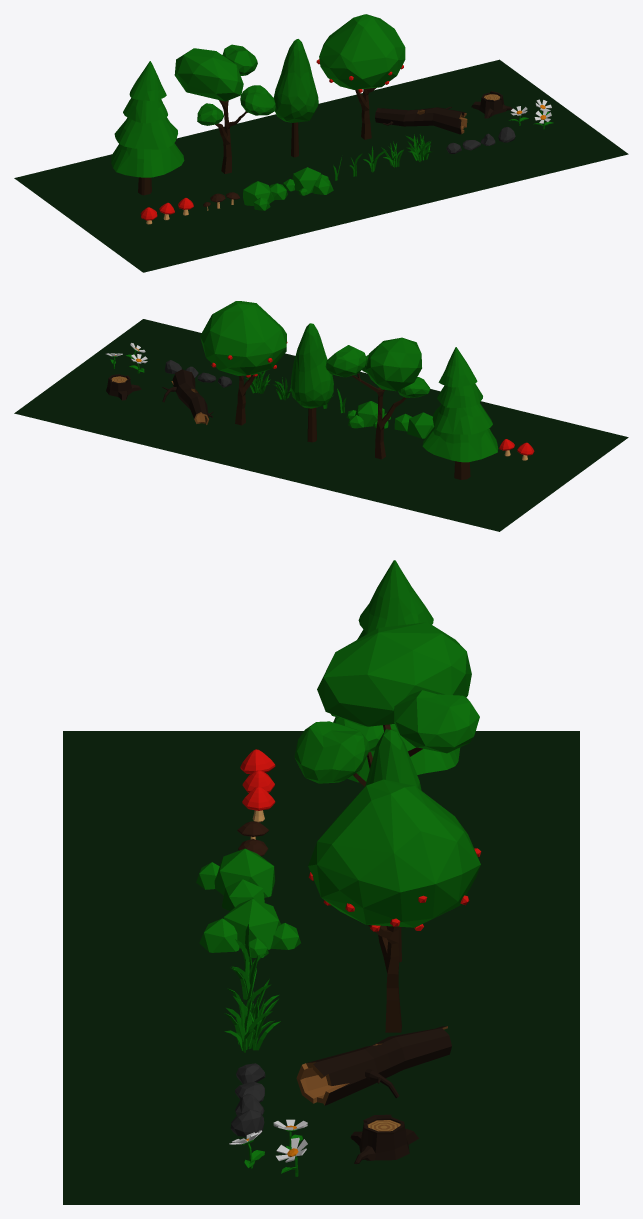
File: nature_assets.obj
3 views of the same model, one above another, from view 1: azimuth 30°, elevation 25°; view 2: azimuth 150°, elevation 25°; view 3: azimuth 270°, elevation 25° (orthographic). The views are drawn at different scales.
Visible parts, largest first — view 1: Plane.001, Icosphere.006, Icosphere.003, Pine_Tree, Icosphere.005, Cylinder, Icosphere.012, Icosphere.011, Circle.006, Cube.006; view 2: Plane.001, Icosphere.006, Pine_Tree, Icosphere.003, Icosphere.005, Cylinder, Icosphere.011, Icosphere.012, Circle.006; view 3: Plane.001, Icosphere.006, Icosphere.003, Cylinder, Pine_Tree, Icosphere.012, Icosphere.011, Circle.006, Icosphere.005, Cube.006.
Part boxes in pixels (<box>): Plane.001: <box>14,59,628,272</box>; Icosphere.006: <box>316,14,405,139</box>; Icosphere.003: <box>174,44,275,173</box>; Pine_Tree: <box>111,61,184,195</box>; Icosphere.005: <box>273,39,318,157</box>; Cylinder: <box>375,107,467,134</box>; Icosphere.012: <box>283,167,333,195</box>; Icosphere.011: <box>243,181,287,210</box>; Circle.006: <box>471,91,512,118</box>; Cube.006: <box>405,134,432,162</box>; Plane.001: <box>14,319,628,531</box>; Icosphere.006: <box>200,301,287,425</box>; Pine_Tree: <box>422,347,498,479</box>; Icosphere.003: <box>325,337,430,459</box>; Icosphere.005: <box>290,323,333,442</box>; Cylinder: <box>162,369,213,424</box>; Icosphere.011: <box>394,412,433,438</box>; Icosphere.012: <box>346,401,390,428</box>; Circle.006: <box>106,374,141,400</box>; Plane.001: <box>63,731,579,1204</box>; Icosphere.006: <box>308,779,481,1032</box>; Icosphere.003: <box>294,622,479,786</box>; Cylinder: <box>296,1026,451,1105</box>; Pine_Tree: <box>331,560,460,782</box>; Icosphere.012: <box>199,898,300,957</box>; Icosphere.011: <box>196,848,274,911</box>; Circle.006: <box>350,1114,418,1164</box>; Icosphere.005: <box>365,729,421,962</box>; Cube.006: <box>224,996,280,1052</box>.
Size of the model in its own units: 91.33 by 23.93 by 42.12.
